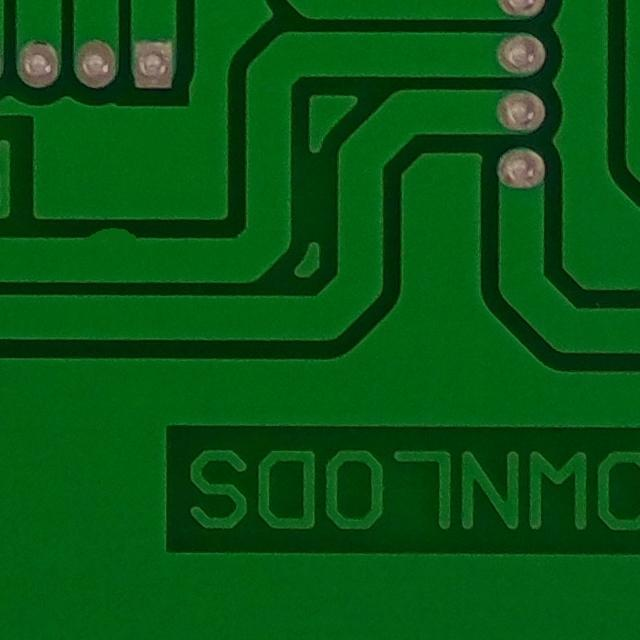spur: (77, 210, 155, 268)
